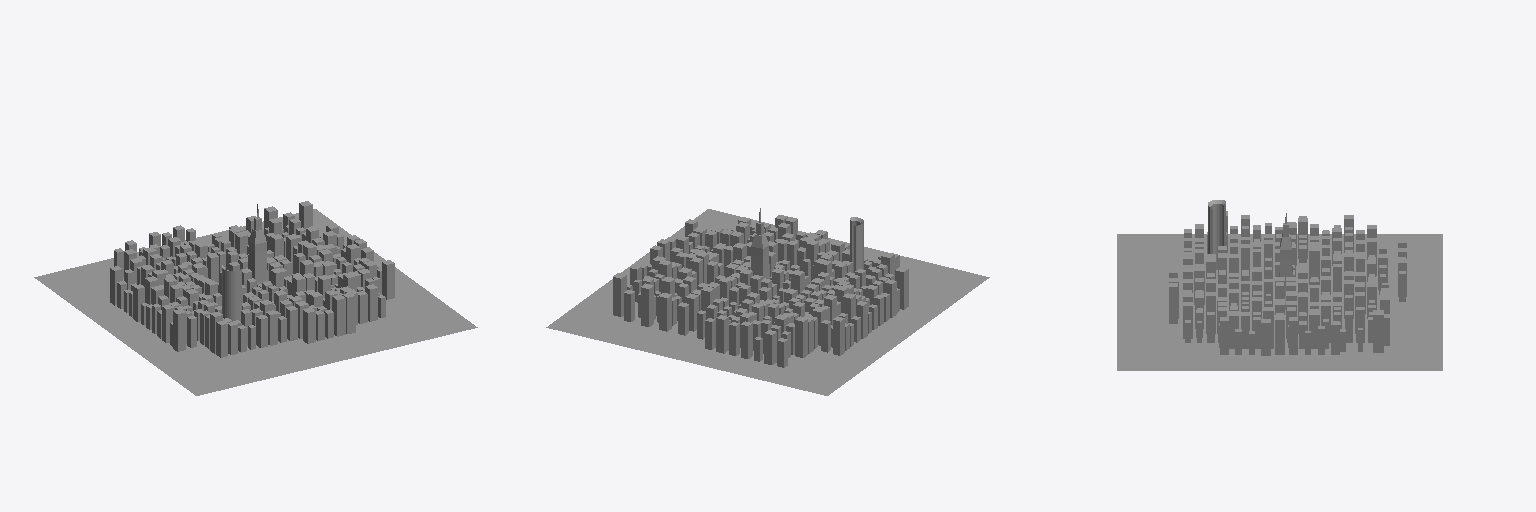
The model's file is bladerunner2.obj.
The picture shows the model from 3 angles: view 1: azimuth 30°, elevation 25°; view 2: azimuth 150°, elevation 25°; view 3: azimuth 270°, elevation 25°; orthographic projection.
Parts seen in each view (by area): view 1: Plane.001_Plane.002, Cube.002, Cylinder_Cylinder.003, Cube.303_Cube.001; view 2: Plane.001_Plane.002, Cube.002, Cylinder_Cylinder.003, Cube.307_Cube.001; view 3: Plane.001_Plane.002, Plane, Cylinder_Cylinder.003, Cube.002.
Boxes of the visible parts, x1,y1,x2,y2 form: Plane.001_Plane.002: [34, 209, 477, 395]; Cube.002: [248, 204, 267, 284]; Cylinder_Cylinder.003: [222, 265, 241, 321]; Cube.303_Cube.001: [173, 309, 185, 351]; Plane.001_Plane.002: [546, 209, 989, 395]; Cube.002: [751, 208, 769, 278]; Cylinder_Cylinder.003: [850, 217, 863, 272]; Cube.307_Cube.001: [641, 283, 653, 326]; Plane.001_Plane.002: [1117, 234, 1442, 370]; Plane: [1178, 251, 1398, 352]; Cylinder_Cylinder.003: [1208, 200, 1225, 269]; Cube.002: [1279, 213, 1292, 309].
Bounding box in the file's own units: 118 × 39.24 × 118.